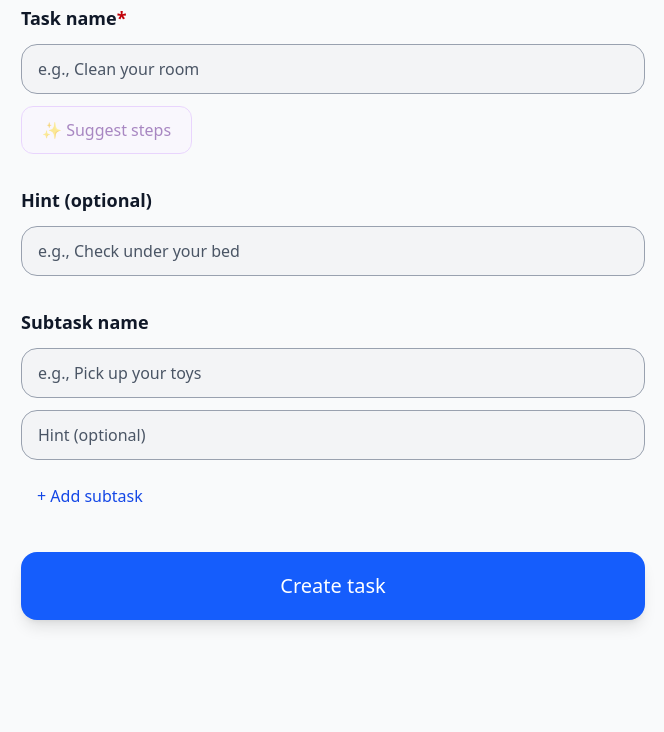
AddTask - AI step suggestions › still lets the user add a step by hand next to suggested ones
Type "Clean your room" into the field labelled "Task name*". click: (333,69)
box: x1=21 y1=44 x2=645 y2=94
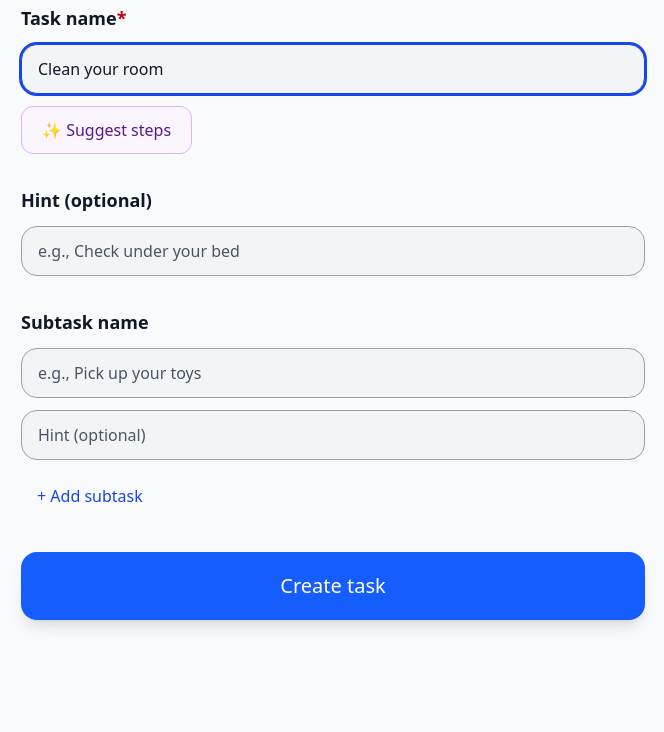
Click the button "✨ Suggest steps". click: (107,130)
box: x1=21 y1=106 x2=192 y2=154
(page scrolled)
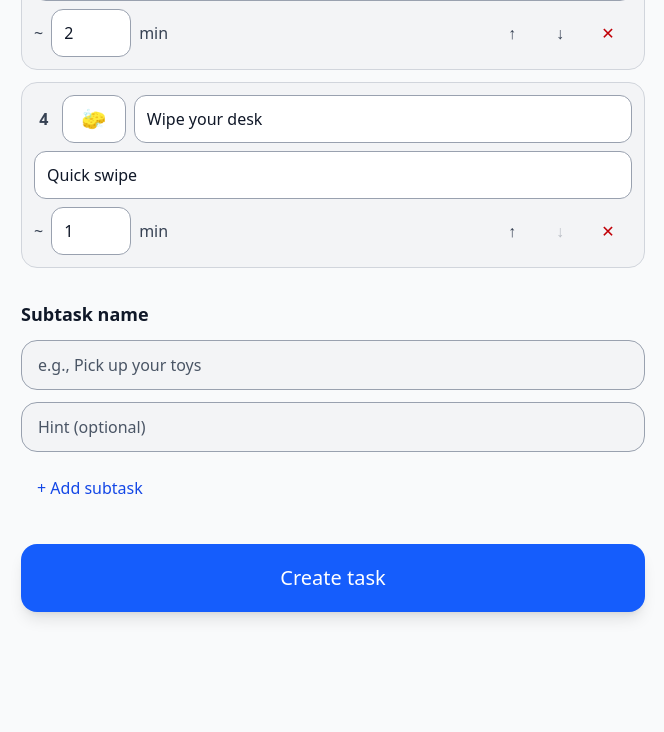
Type "Vacuum" into the field labelled "Subtask name". click: (333,365)
box: x1=21 y1=340 x2=645 y2=390
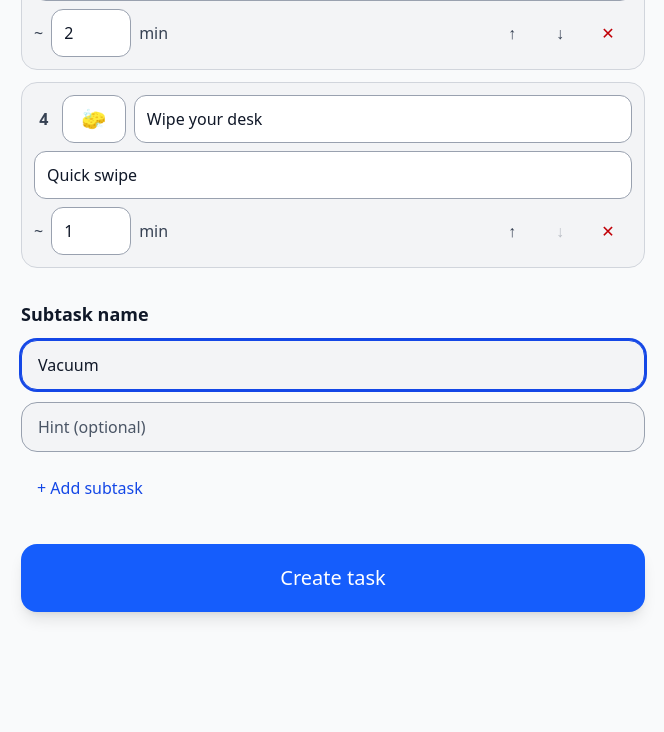
Click the button "+ Add subtask". click: (90,488)
box: x1=21 y1=464 x2=159 y2=512
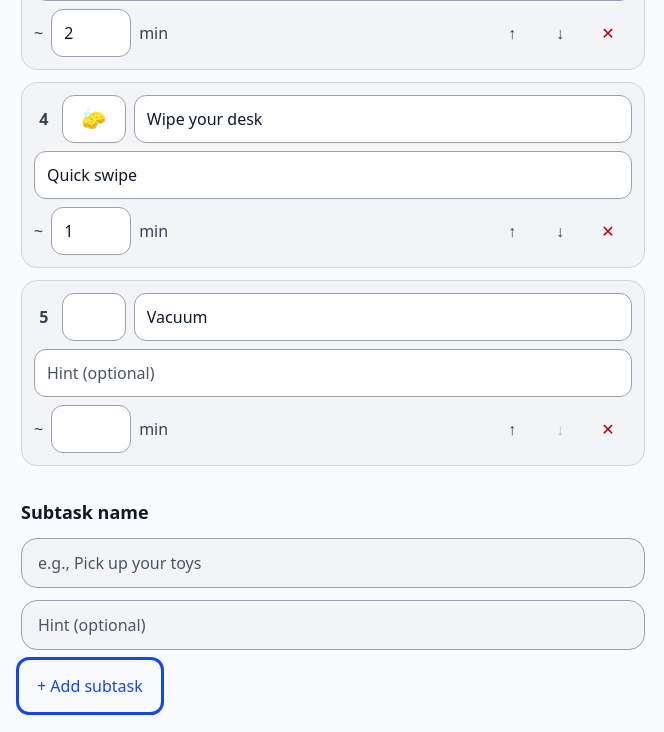
Expected: the field named "Step 5 title" holds "Vacuum", x1=134 y1=293 x2=632 y2=341
